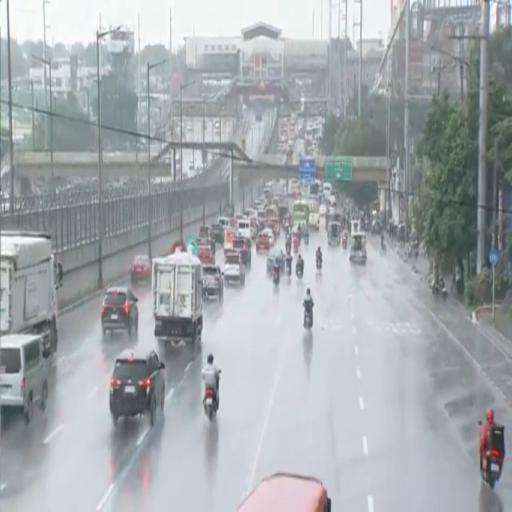bus: (238, 473, 331, 511), (292, 200, 309, 229)
car: (0, 334, 50, 423), (110, 349, 165, 425), (101, 286, 138, 335), (203, 265, 223, 301), (224, 251, 245, 285), (131, 255, 151, 284), (233, 237, 251, 267), (267, 248, 285, 274), (197, 232, 215, 252), (198, 243, 215, 264), (256, 232, 270, 251), (262, 228, 275, 248), (211, 224, 223, 245)
motorcycle: (481, 425, 504, 488), (204, 388, 218, 421), (439, 280, 447, 301), (304, 310, 312, 329), (285, 260, 292, 276), (432, 283, 439, 298), (273, 269, 279, 285), (296, 266, 303, 279), (293, 238, 299, 253), (316, 256, 321, 270), (286, 240, 291, 253), (304, 232, 309, 245), (342, 237, 347, 248)
truck: (0, 231, 62, 353), (152, 252, 203, 353)
